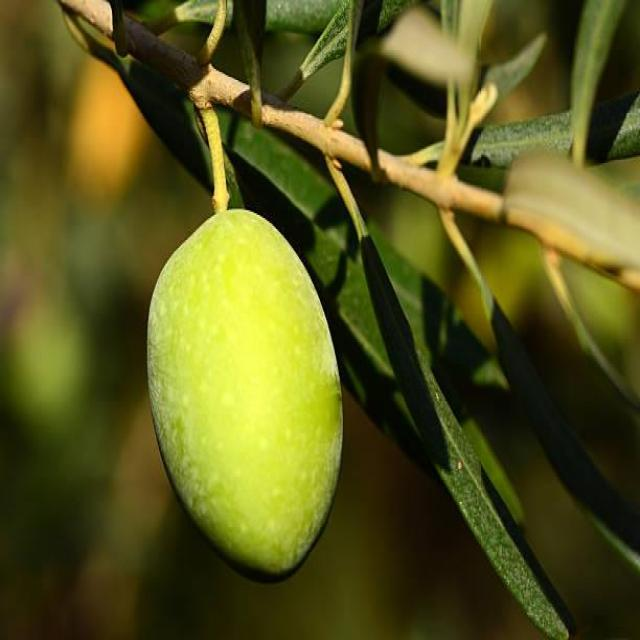Healthy: (147, 209, 340, 580)
